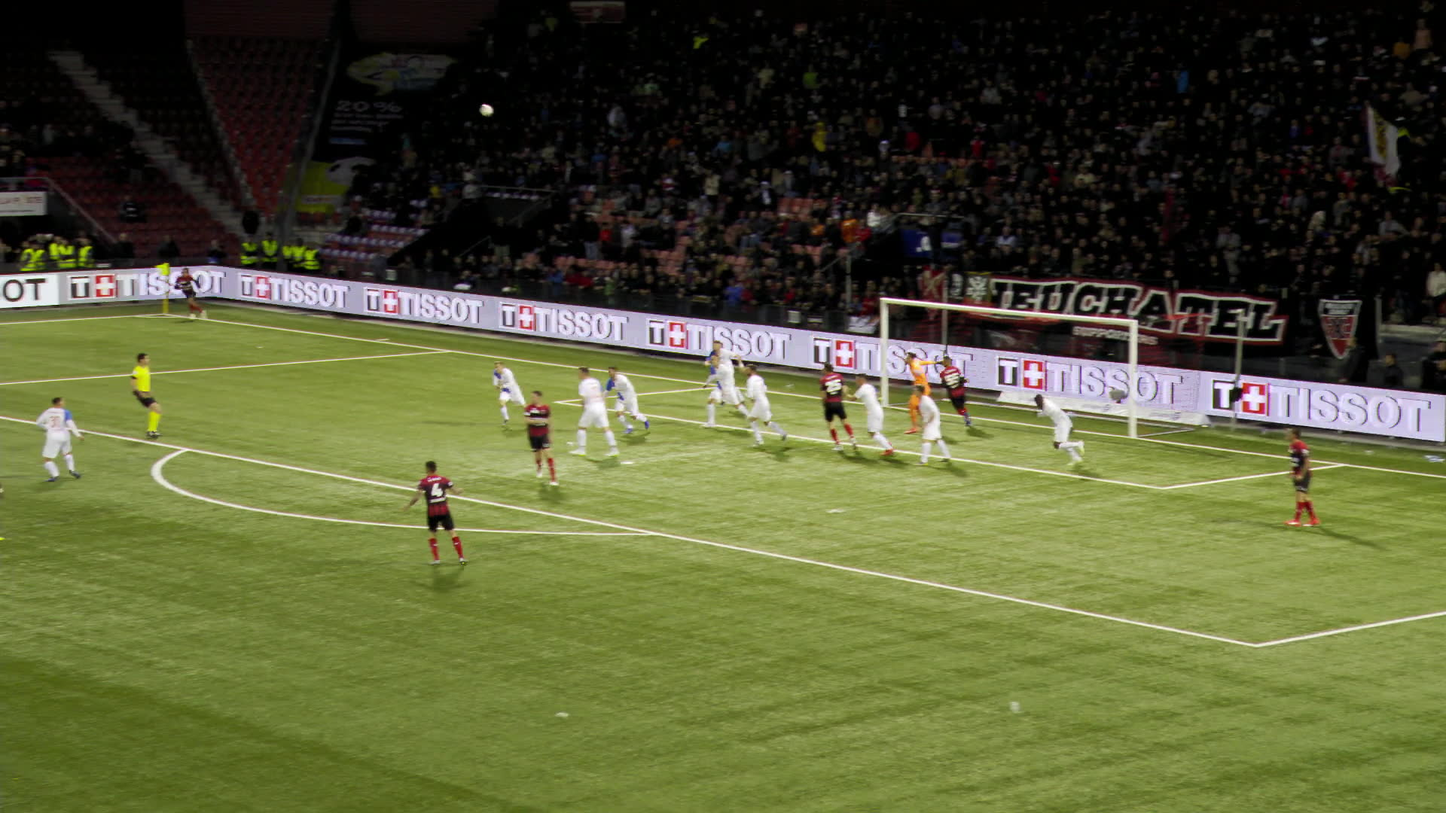ball: (484, 105, 498, 118)
player: (397, 461, 457, 567), (560, 365, 607, 457), (30, 396, 80, 482), (835, 372, 886, 455), (1023, 392, 1078, 464), (807, 361, 849, 452), (1273, 425, 1309, 525), (694, 352, 740, 428), (734, 366, 776, 449), (510, 392, 545, 486), (901, 382, 940, 464), (927, 355, 969, 428), (596, 365, 638, 435), (700, 340, 742, 408), (892, 355, 924, 434), (483, 359, 523, 419), (165, 268, 197, 320), (0, 483, 5, 540)
referee: (122, 353, 157, 438)
